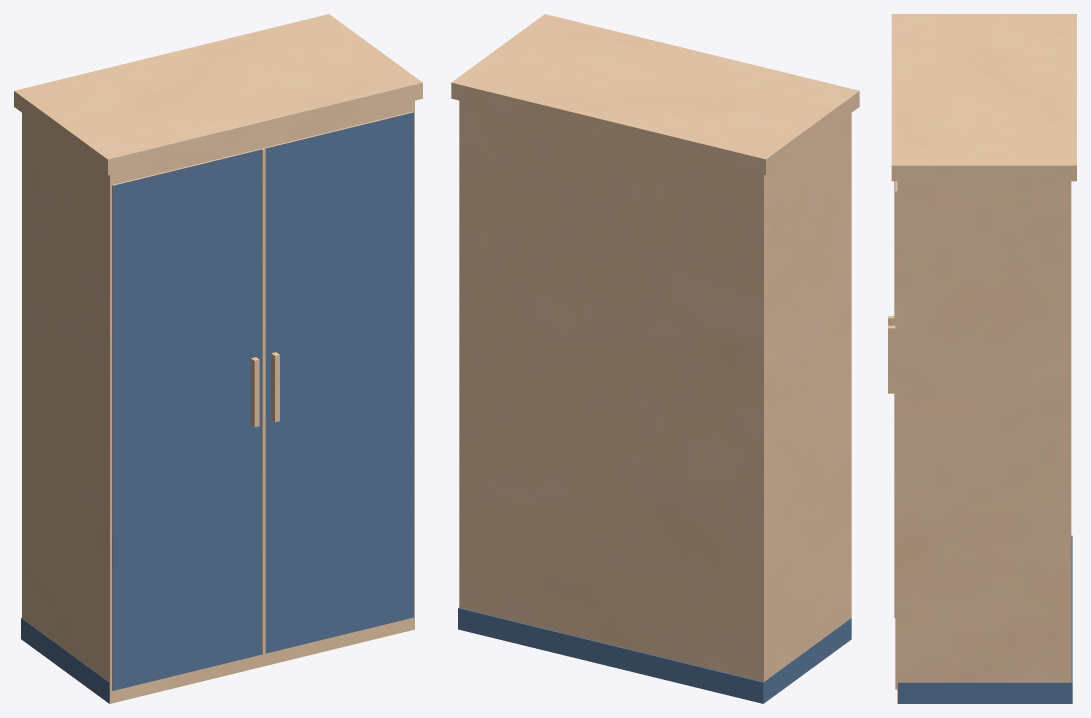
The model's file is Wardrobe.fbx.
3 views of the same model, side by side, from view 1: azimuth 30°, elevation 25°; view 2: azimuth 150°, elevation 25°; view 3: azimuth 270°, elevation 25° (orthographic).
Parts seen in each view (by area): view 1: Wardrobe; view 2: Wardrobe; view 3: Wardrobe.
Part boxes in pixels (x1,y1,x2,y2): Wardrobe: (14, 14, 422, 703); Wardrobe: (451, 14, 859, 703); Wardrobe: (888, 14, 1076, 703).
Size of the model in its own units: 1.24 by 2.06 by 0.6525.
1 material, 1 textured.
